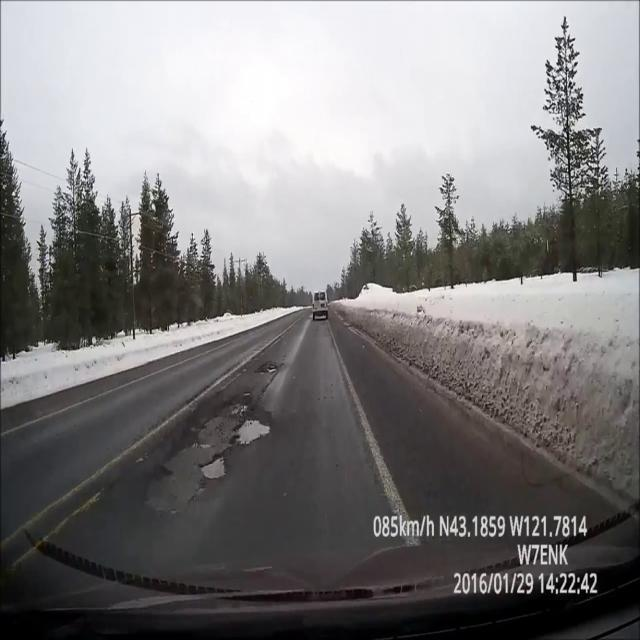pothole: (227, 416, 274, 451), (197, 456, 231, 481), (256, 362, 279, 378)
